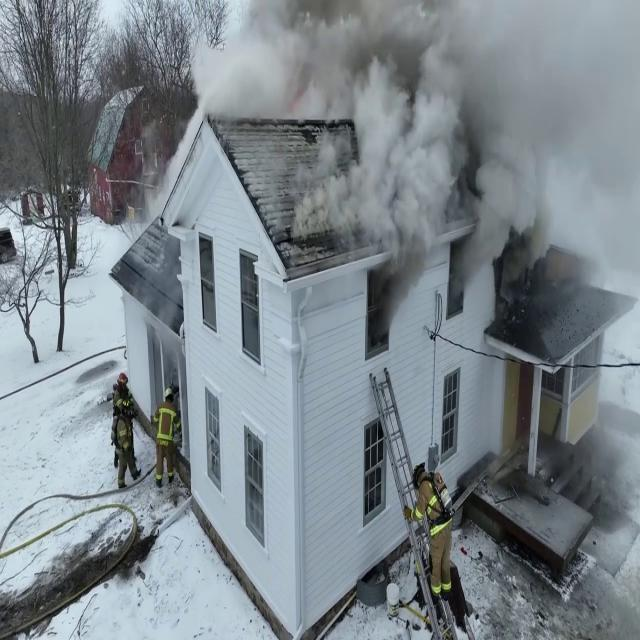Smoke: (290, 1, 634, 305)
